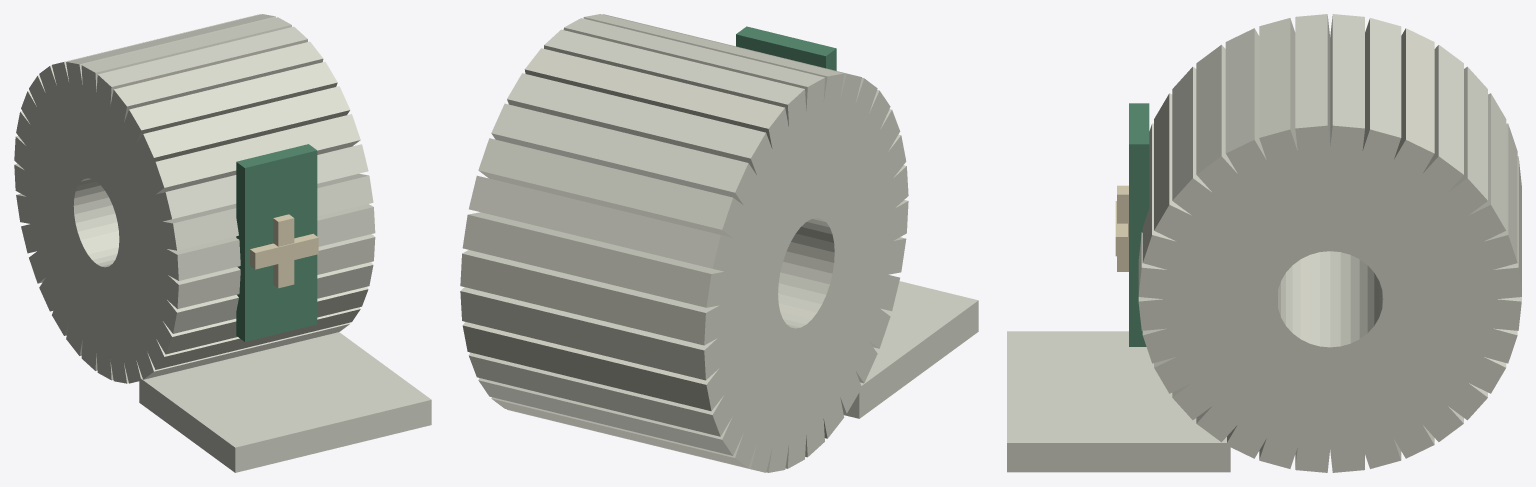
Rendered from FSA_ITEM_Consumable_001_Bandage.glb.
The picture shows the model from 3 angles, left to right: view 1: azimuth 30°, elevation 25°; view 2: azimuth 150°, elevation 25°; view 3: azimuth 270°, elevation 25°; orthographic projection. The views are drawn at different scales.
Parts seen in each view (by area): view 1: GauzeTail, WrapBand, GauzeRoll_3, GauzeRoll_2, GauzeRoll_4, GauzeRoll_1, GauzeRoll_0, GauzeRoll_6, GauzeRoll_7, GauzeRoll_8, GauzeRoll_5, GauzeRoll_9 (+24 smaller); view 2: GauzeRoll_25, GauzeRoll_24, GauzeRoll_27, GauzeRoll_28, GauzeRoll_29, GauzeRoll_26, GauzeRoll_23, GauzeRoll_22, GauzeRoll_30, GauzeTail, GauzeRoll_31, GauzeRoll_21 (+22 smaller); view 3: GauzeTail, GauzeRoll_0, GauzeRoll_30, GauzeRoll_29, GauzeRoll_1, GauzeRoll_2, GauzeRoll_31, GauzeRoll_3, GauzeRoll_4, GauzeRoll_28, GauzeRoll_27, GauzeRoll_5 (+23 smaller).
Part boxes in pixels (x1,y1,x2,y2): GauzeTail: (139, 332, 431, 472); WrapBand: (236, 144, 317, 341); GauzeRoll_3: (110, 86, 350, 212); GauzeRoll_2: (101, 61, 337, 202); GauzeRoll_4: (110, 114, 360, 222); GauzeRoll_1: (101, 41, 323, 196); GauzeRoll_0: (93, 26, 307, 189); GauzeRoll_6: (118, 173, 373, 250); GauzeRoll_7: (119, 204, 375, 280); GauzeRoll_8: (118, 234, 375, 308); GauzeRoll_5: (113, 144, 368, 231); GauzeRoll_9: (117, 245, 373, 333); GauzeRoll_25: (462, 212, 781, 307); GauzeRoll_24: (460, 250, 778, 345); GauzeRoll_27: (478, 138, 785, 270); GauzeRoll_28: (491, 103, 792, 260); GauzeRoll_29: (507, 73, 800, 250); GauzeRoll_26: (469, 175, 785, 282); GauzeRoll_23: (460, 284, 778, 380); GauzeRoll_22: (462, 295, 781, 411); GauzeRoll_30: (524, 48, 805, 238); GauzeTail: (843, 281, 978, 418); GauzeRoll_31: (544, 29, 810, 230); GauzeRoll_21: (468, 305, 783, 436); GauzeTail: (1007, 331, 1230, 472); GauzeRoll_0: (1295, 14, 1340, 252); GauzeRoll_30: (1330, 18, 1401, 257); GauzeRoll_29: (1341, 28, 1434, 263); GauzeRoll_1: (1259, 18, 1329, 257); GauzeRoll_2: (1225, 28, 1310, 263); GauzeRoll_31: (1323, 14, 1364, 252); GauzeRoll_3: (1196, 44, 1307, 271); GauzeRoll_4: (1172, 67, 1297, 279); GauzeRoll_28: (1351, 45, 1463, 269); GauzeRoll_27: (1361, 66, 1487, 277); GauzeRoll_5: (1154, 93, 1288, 288).
Bounding box in the file's own units: 0.065 × 0.0943 × 0.1267.
